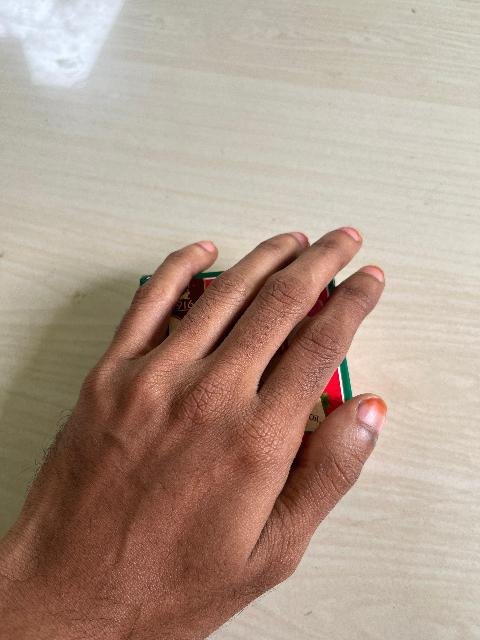hand: (129, 211, 425, 470)
